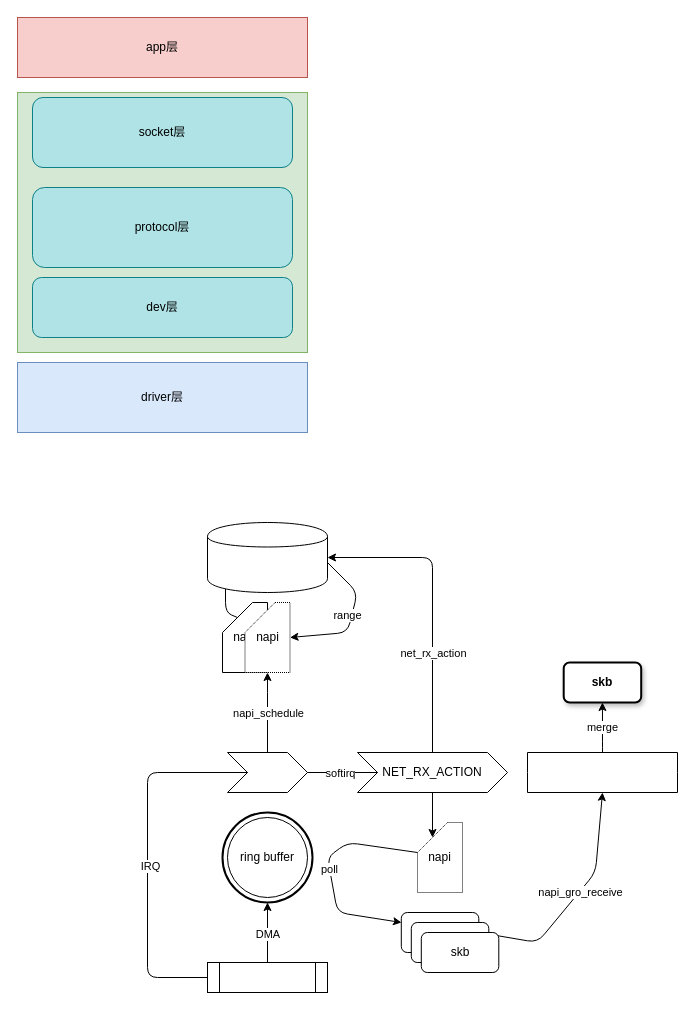
Image size: 695x1010. Some labels were removed from this diagram. Each missing label, with the centre of its shape:
"GRO" belongs at point 602,772.
"ISR" belongs at point 267,772.
"NIC queue" belongs at point 267,977.
"softnet_data" belongs at point 267,557.
